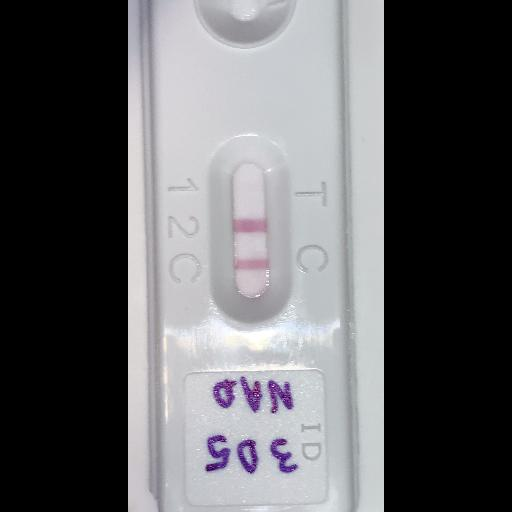Pos: (146, 0, 356, 510)
